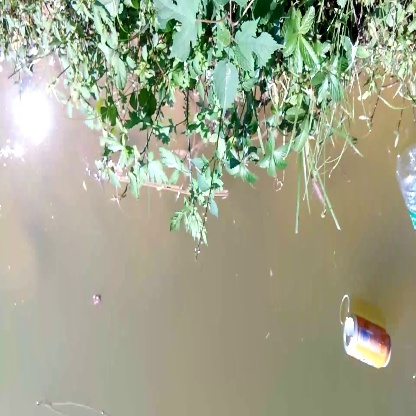bottle: (337, 304, 395, 375)
